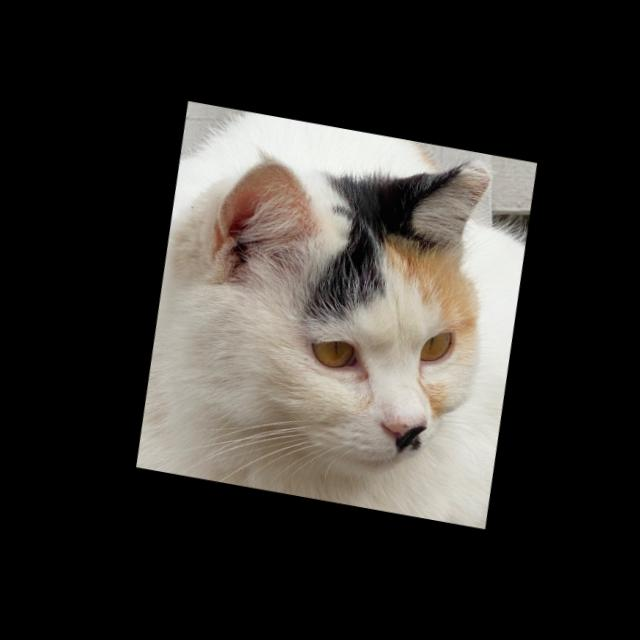animals: (159, 107, 532, 496)
